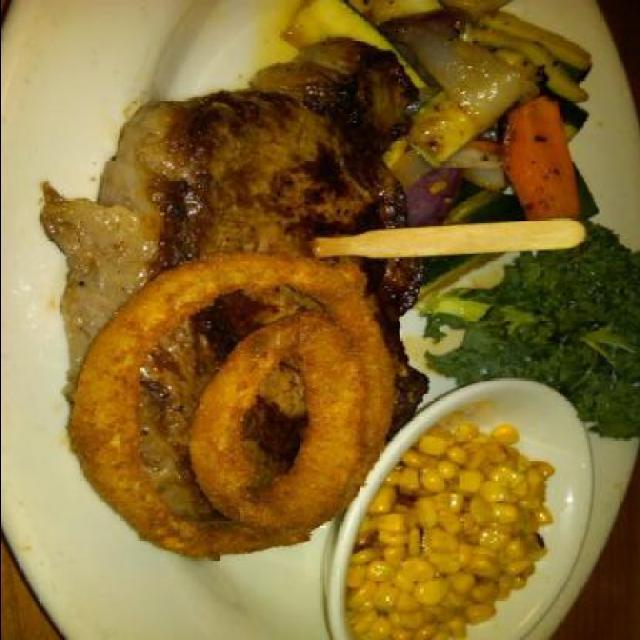Steak: (29, 101, 408, 590)
